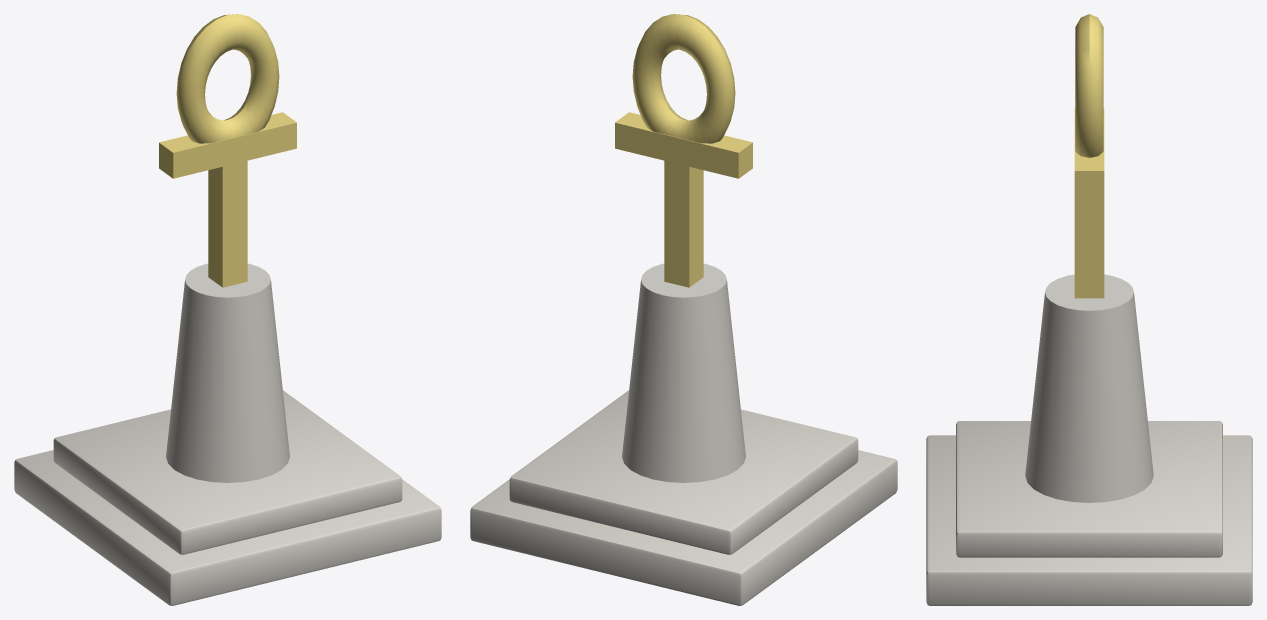
Rendered from Giza_Alfil.fbx.
3 views of the same model, side by side, from view 1: azimuth 30°, elevation 25°; view 2: azimuth 150°, elevation 25°; view 3: azimuth 270°, elevation 25° (orthographic). The views are drawn at different scales.
Visible parts, largest first — view 1: Giza_Alfil; view 2: Giza_Alfil; view 3: Giza_Alfil.
Part boxes in pixels (left/top/right/bottom): Giza_Alfil: left=14, top=14, right=441, bottom=605; Giza_Alfil: left=470, top=14, right=897, bottom=605; Giza_Alfil: left=926, top=14, right=1252, bottom=605.
Size of the model in its own units: 0.66 by 1.16 by 0.66.
